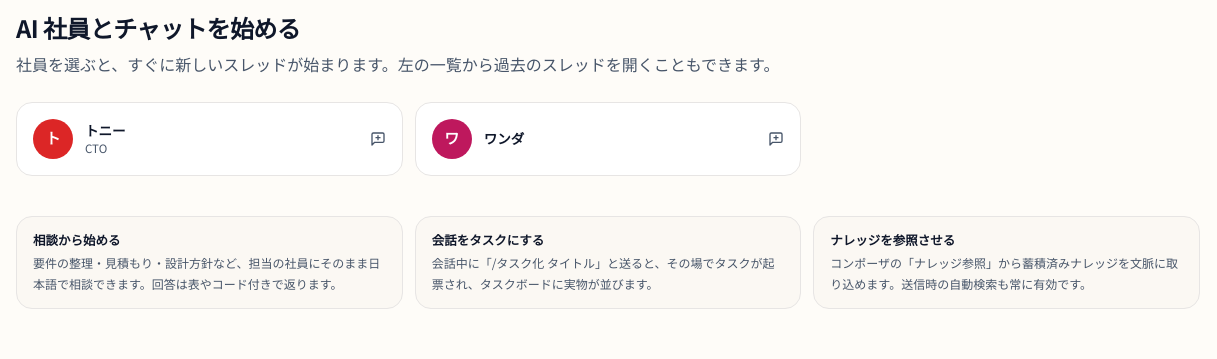
Test: S-E01 ChatEmptyState (GAP-123) › 作成失敗は誠実にエラー表示
What coordinates should you click on to do the following:
click the button with aria-label "ワンダと新しいスレッドを開始"
I would click on:
 (452, 139)
Its box is [415, 102, 801, 176].
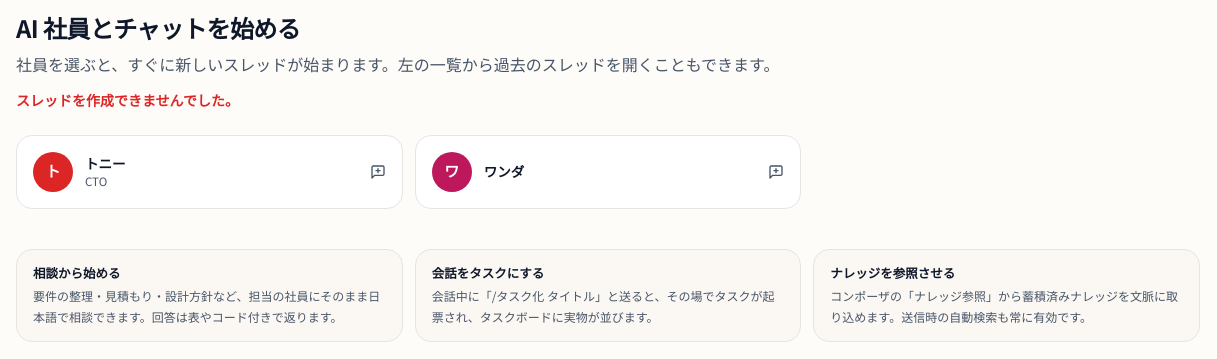
Expected: the text "スレッドを作成できませんでした。" is shown, [16, 90, 239, 110]
